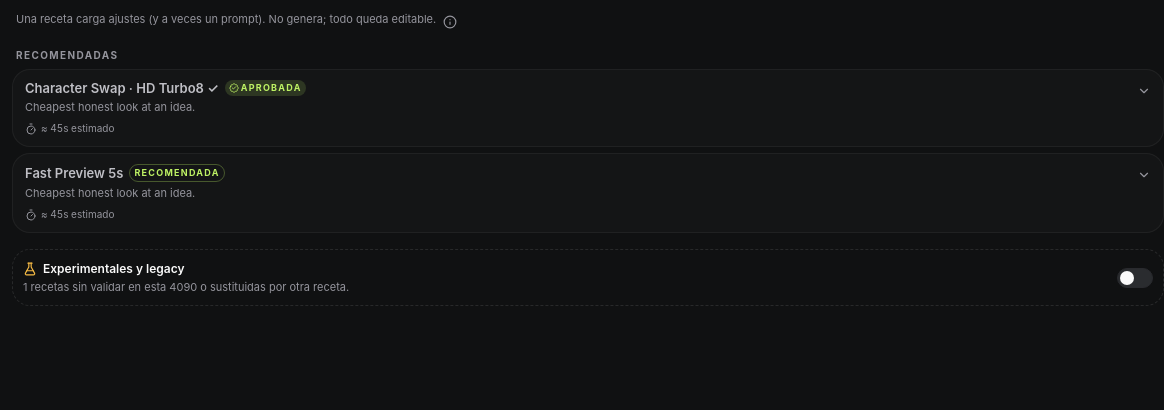
Scenario: curated recipes › keeps experiments behind a remembered opt-in
This screenshot has width=1164, height=410.
expect the heading "Recomendadas" is shown: met, box [16,49,118,61]
expect the text "Character Swap · HD Turbo8 ✓" is shown: met, box [25,80,219,96]
Click the switch named "recetas experimentales": (1135,278) [1117,268,1153,288]
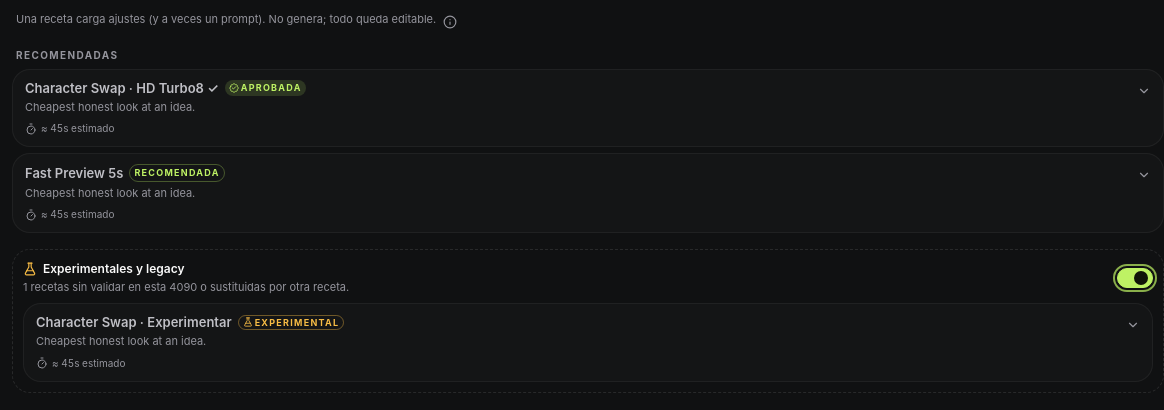
expect the text "Character Swap · Experimentar" is shown: met, box [36,314,232,330]
